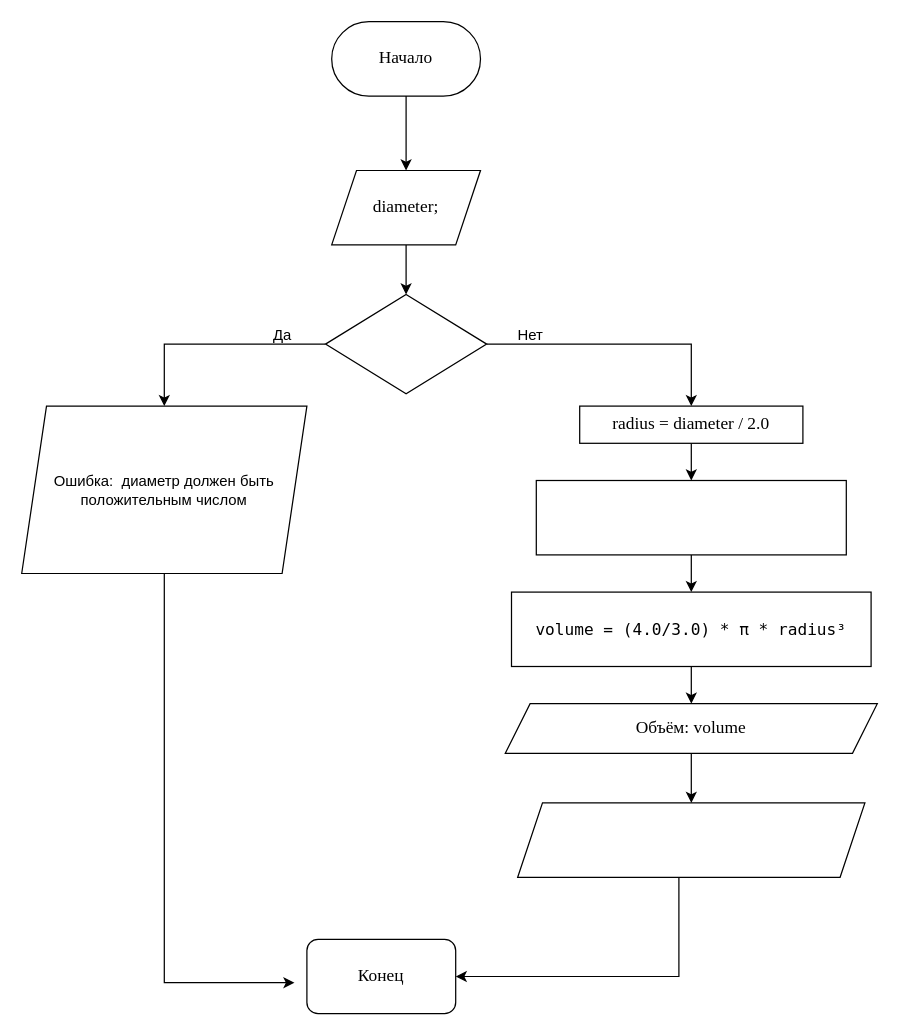
This 899x1035 diagram has some shape labels left out. The shapes that lost their labels are listed below. From the top down, each one's centre as x and y in pixels, then its label:
At (405,343): "diameter <= 0".
At (690,517): "area = 4.0 * π * radius²".
At (690,839): "Площадь поверхности: area".
